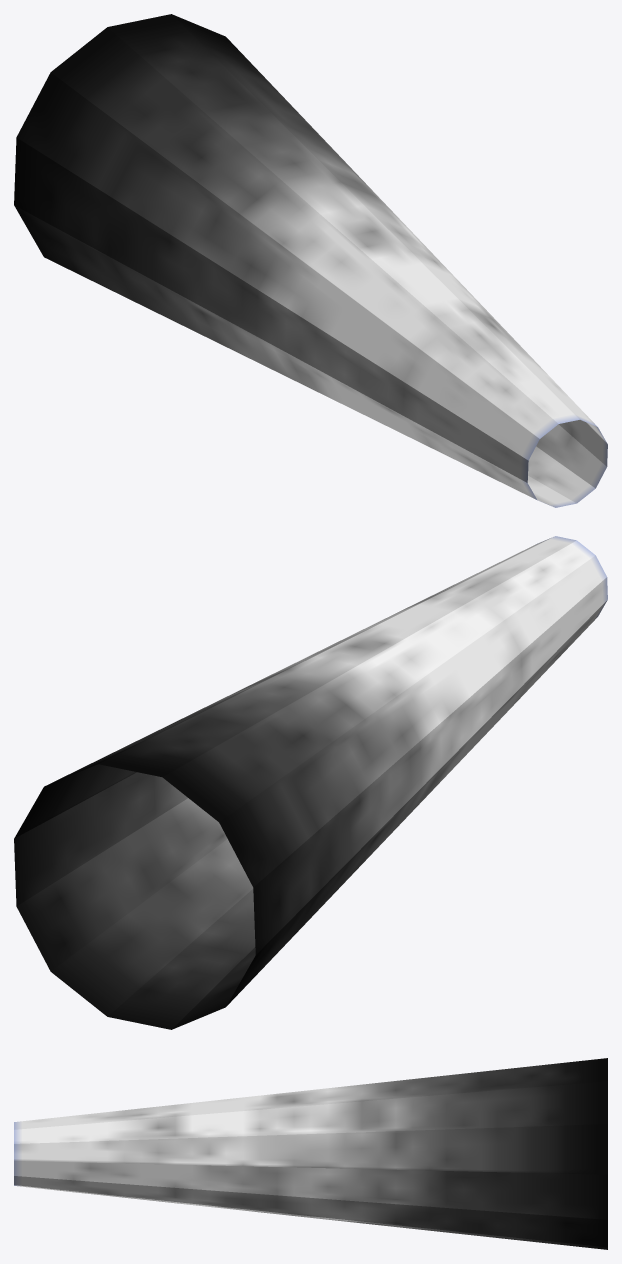
Rendered from Lichtkegel_1516.glb.
3 views of the same model, one above another, from view 1: azimuth 30°, elevation 25°; view 2: azimuth 150°, elevation 25°; view 3: azimuth 270°, elevation 25° (orthographic). The views are drawn at different scales.
Visible parts, largest first — view 1: pCylinderShape2; view 2: pCylinderShape2; view 3: pCylinderShape2.
Boxes of the visible parts, left/top/right/bottom form: pCylinderShape2: left=14, top=14, right=607, bottom=507; pCylinderShape2: left=14, top=536, right=607, bottom=1029; pCylinderShape2: left=14, top=1058, right=607, bottom=1249.
Bounding box in the file's own units: 0.3297 × 0.3297 × 1.02.
Materials: 1 (1 with a texture image).
